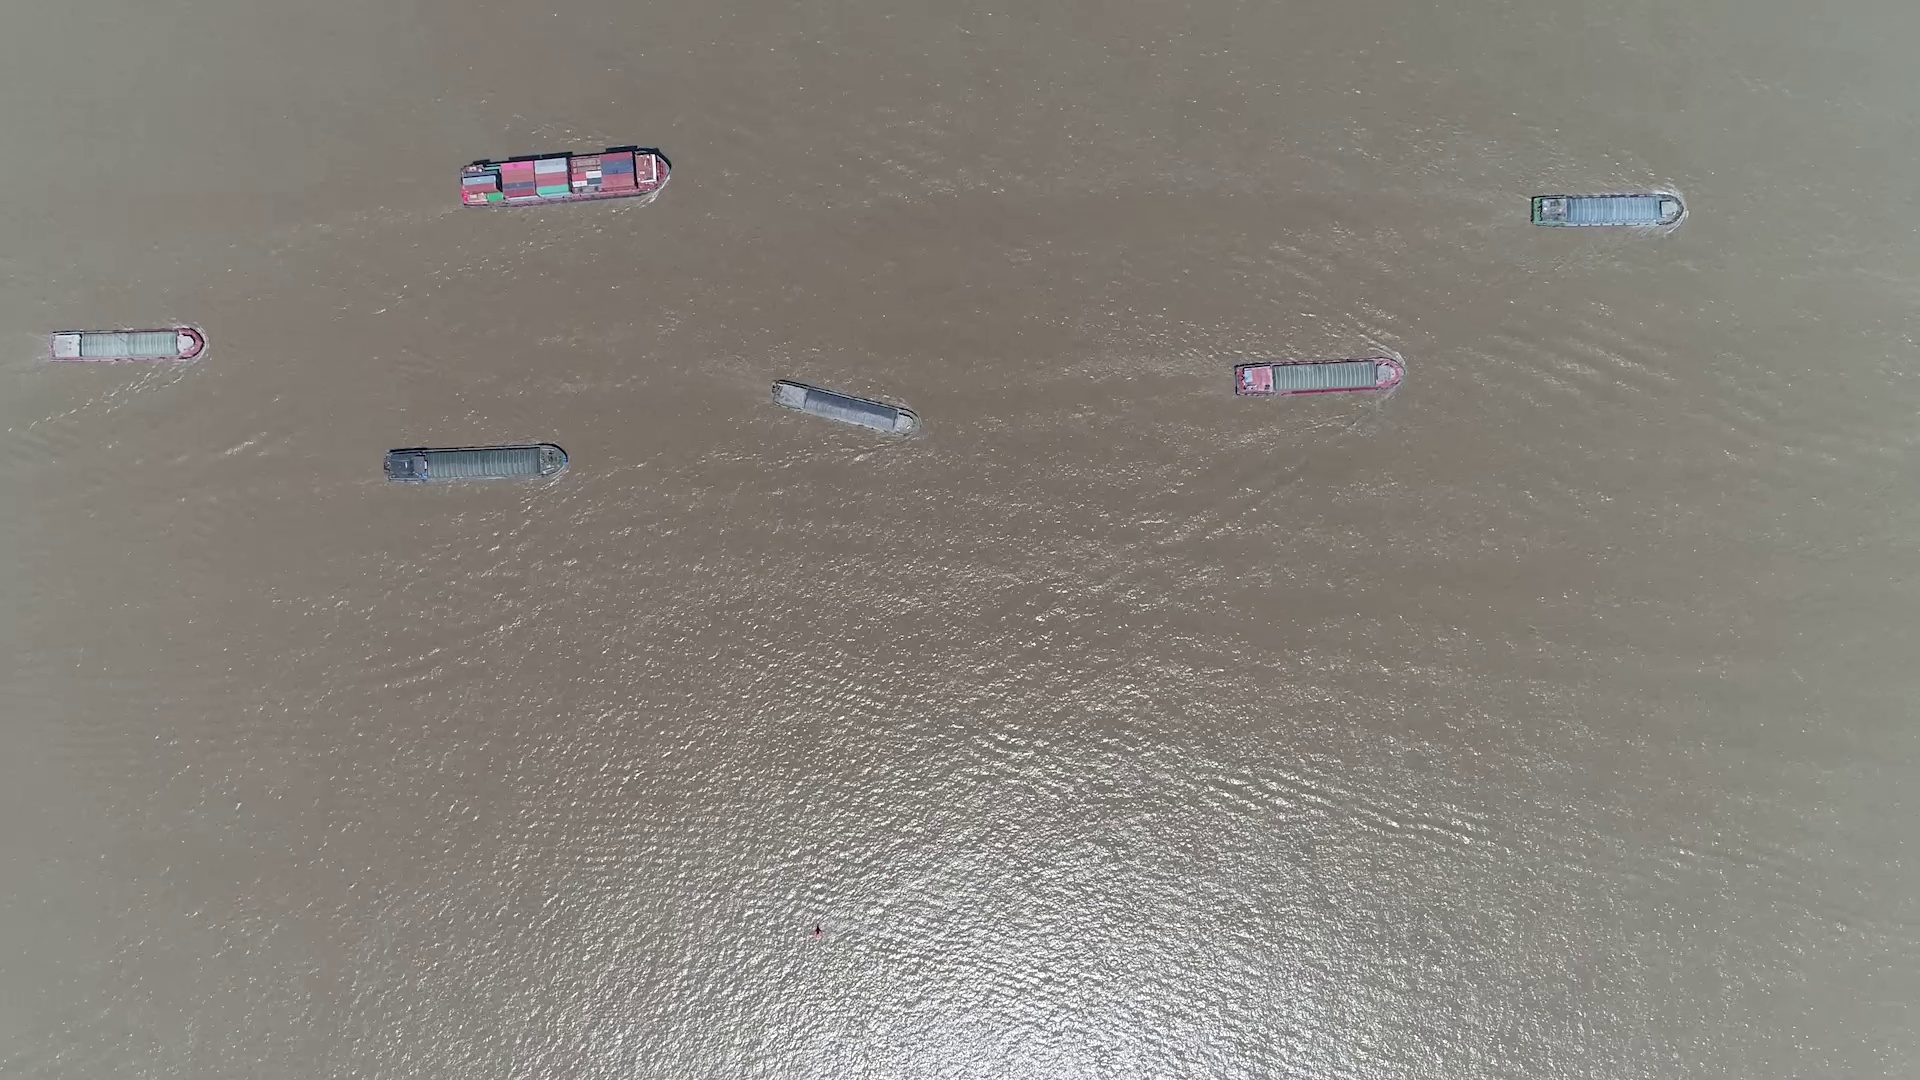ship: (459, 150, 671, 207), (771, 380, 916, 434), (385, 444, 567, 484), (1236, 357, 1404, 396), (1528, 193, 1684, 227), (47, 328, 204, 361)
